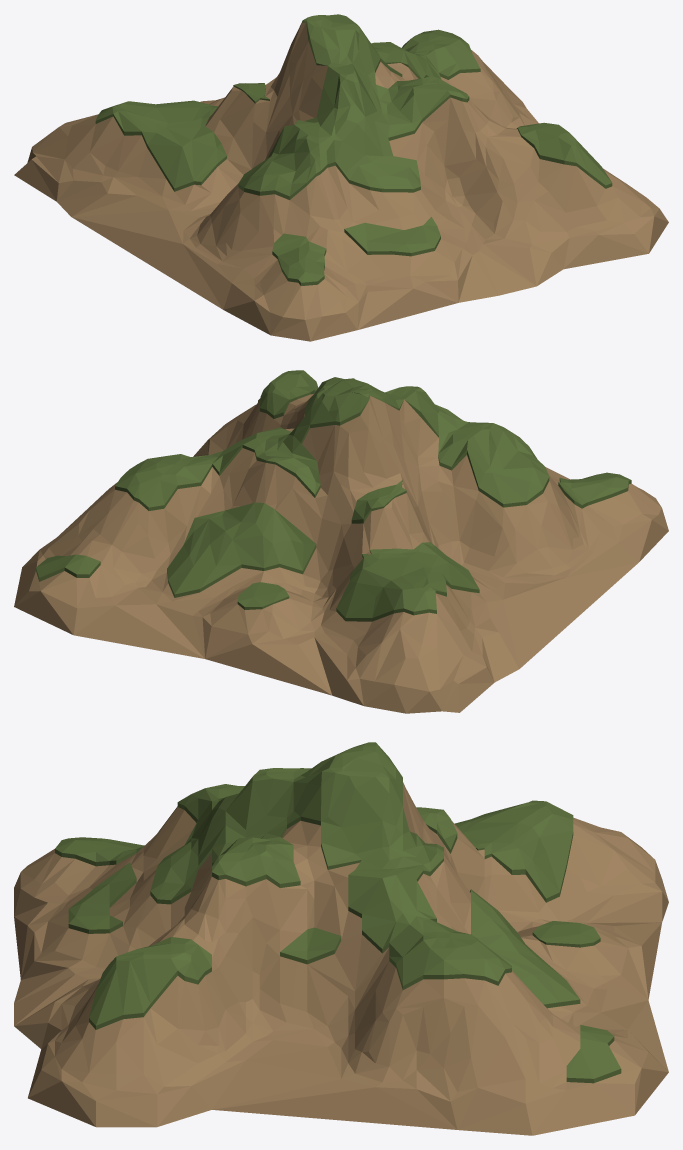
File: Env_MountainGrass2.glb
The picture shows the model from 3 angles, top to bottom: view 1: azimuth 30°, elevation 25°; view 2: azimuth 150°, elevation 25°; view 3: azimuth 270°, elevation 25°; orthographic projection. The views are drawn at different scales.
Visible parts, largest first — view 1: SM_Env_MountainGrass_02; view 2: SM_Env_MountainGrass_02; view 3: SM_Env_MountainGrass_02.
Boxes of the visible parts, left/top/right/bottom form: SM_Env_MountainGrass_02: left=14, top=14, right=668, bottom=341; SM_Env_MountainGrass_02: left=14, top=370, right=668, bottom=713; SM_Env_MountainGrass_02: left=14, top=742, right=668, bottom=1135.
Size of the model in its own units: 39.23 by 15.12 by 38.82.
1 material, 1 textured.
